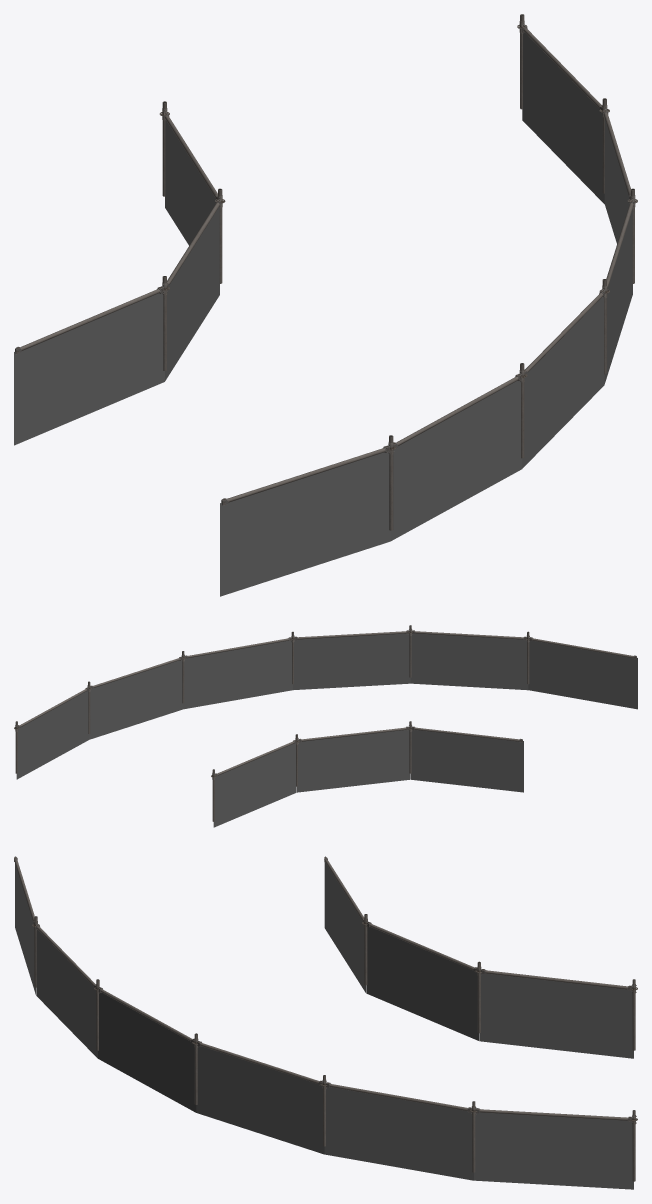
The model's file is scaffold_mid_turnr_96x576.fbx.
3 renders of one model, top to bottom at view 1: azimuth 30°, elevation 25°; view 2: azimuth 150°, elevation 25°; view 3: azimuth 270°, elevation 25°, orthographic. The views are drawn at different scales.
Parts seen in each view (by area): view 1: scaffold_mid_turnR_96x576; view 2: scaffold_mid_turnR_96x576; view 3: scaffold_mid_turnR_96x576.
Part boxes in pixels (box(x1,y1,x2,y2)): scaffold_mid_turnR_96x576: box(14, 14, 637, 596); scaffold_mid_turnR_96x576: box(14, 625, 637, 827); scaffold_mid_turnR_96x576: box(14, 856, 637, 1189).
Size of the model in its own units: 773 by 108 by 774.
